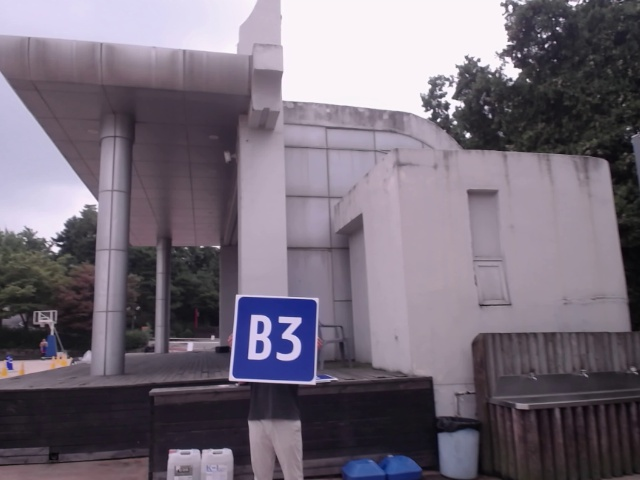delivery_b3: (230, 295, 318, 384)
